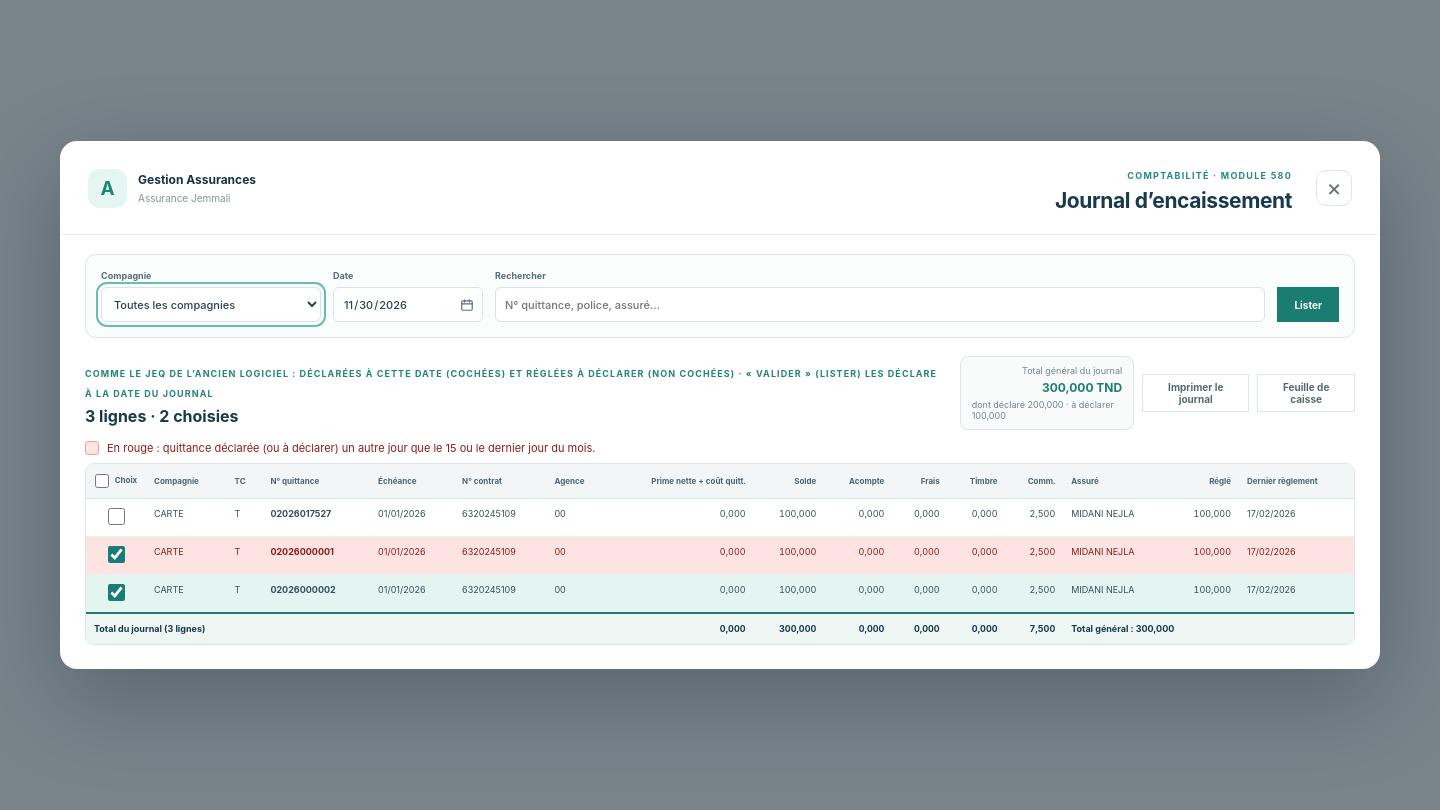
Scenario: a tick comptabilises the quittance at once on the journal date, an untick takes it back out; the journal is read again
Expected: the button "Lister" is shown, 1277,287 -> 1339,322
Type "2026-11-15" into the date field labelled "Date" at (408, 304), box 333,287 -> 483,322
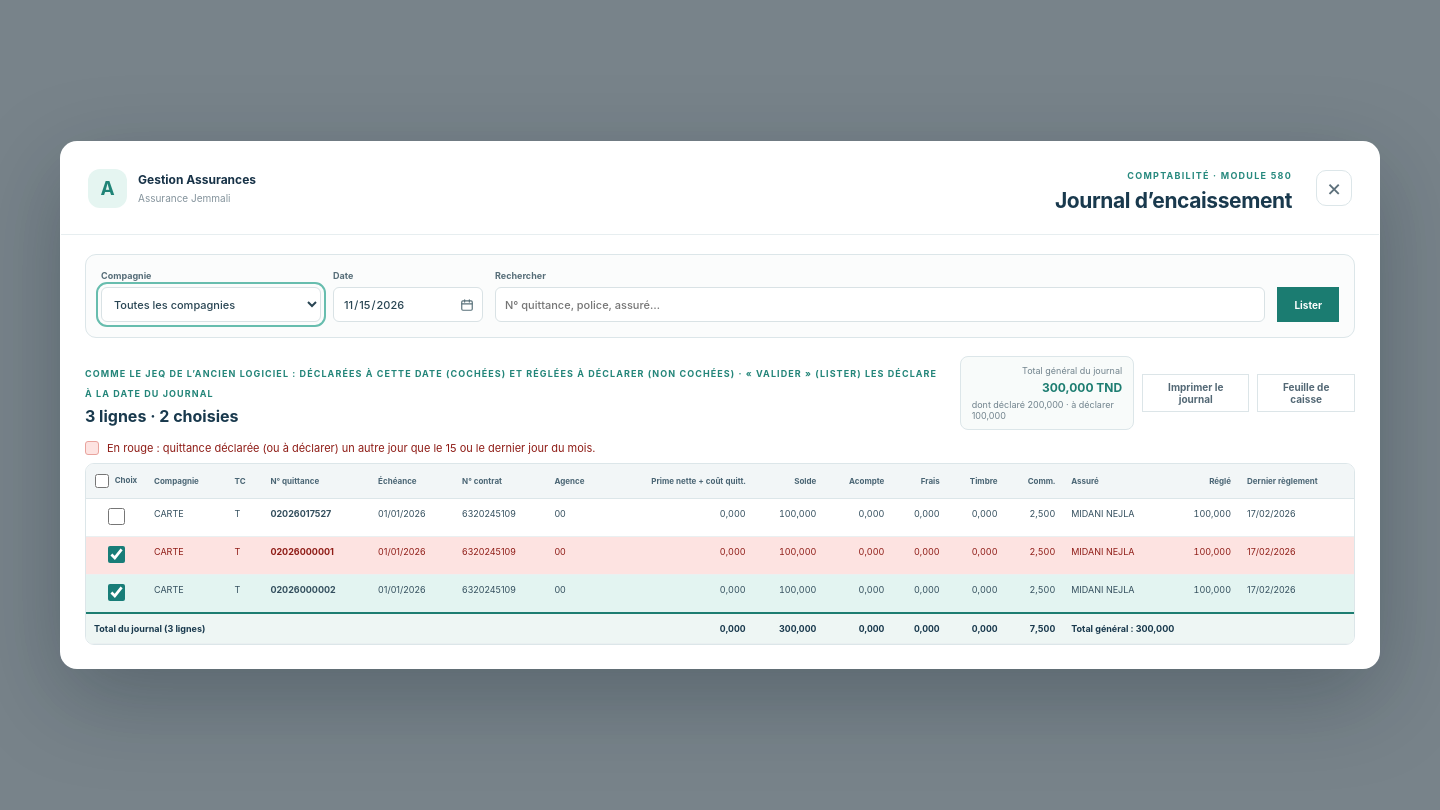
Click the checkbox named "Choisir 02026017527" at (116, 516), box 108,508 -> 124,525
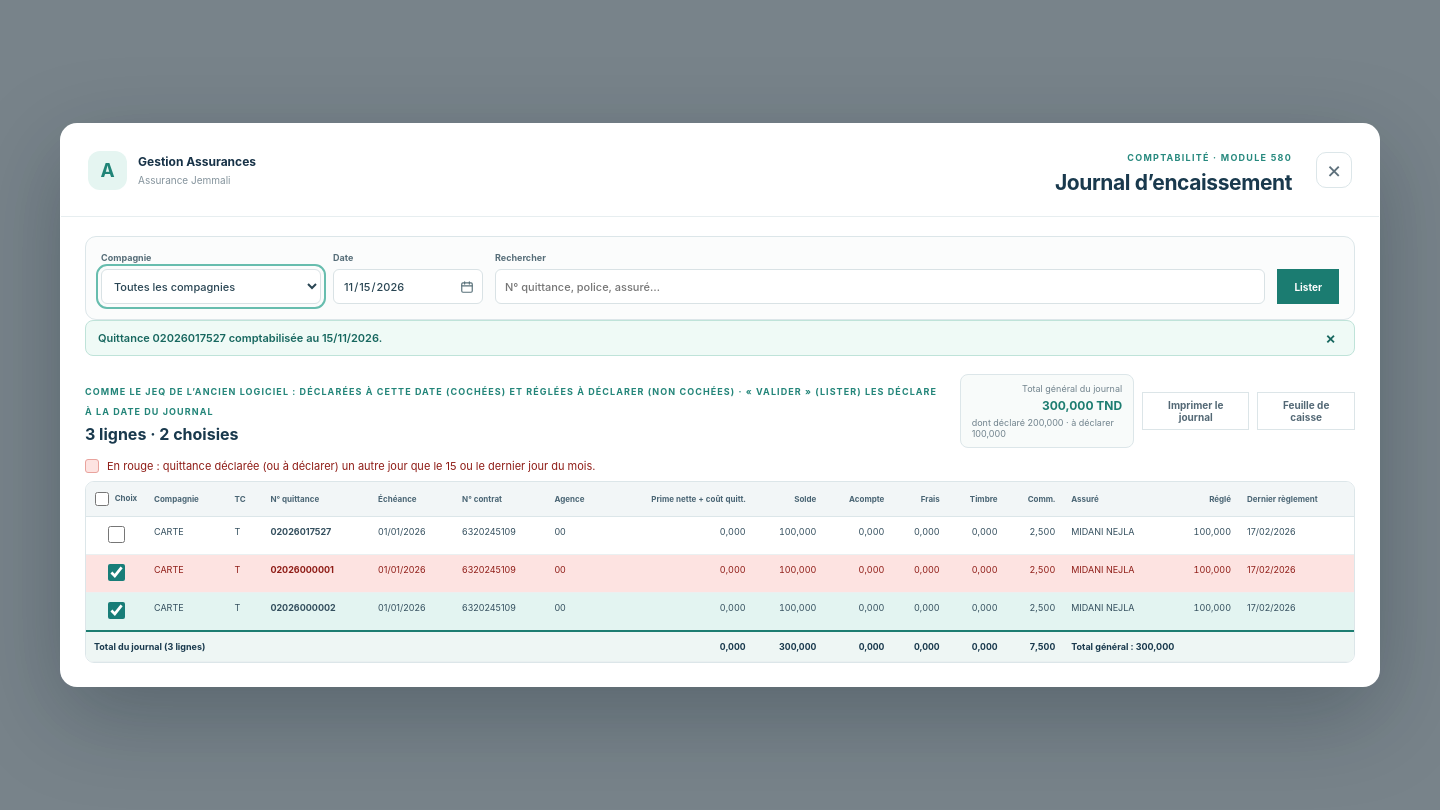
Result: the text "Quittance 02026017527 comptabilisée au 15/11/2026." is shown at 98,331 -> 382,345
Click the checkbox named "Choisir 02026000002" at (116, 610), box 108,602 -> 124,619
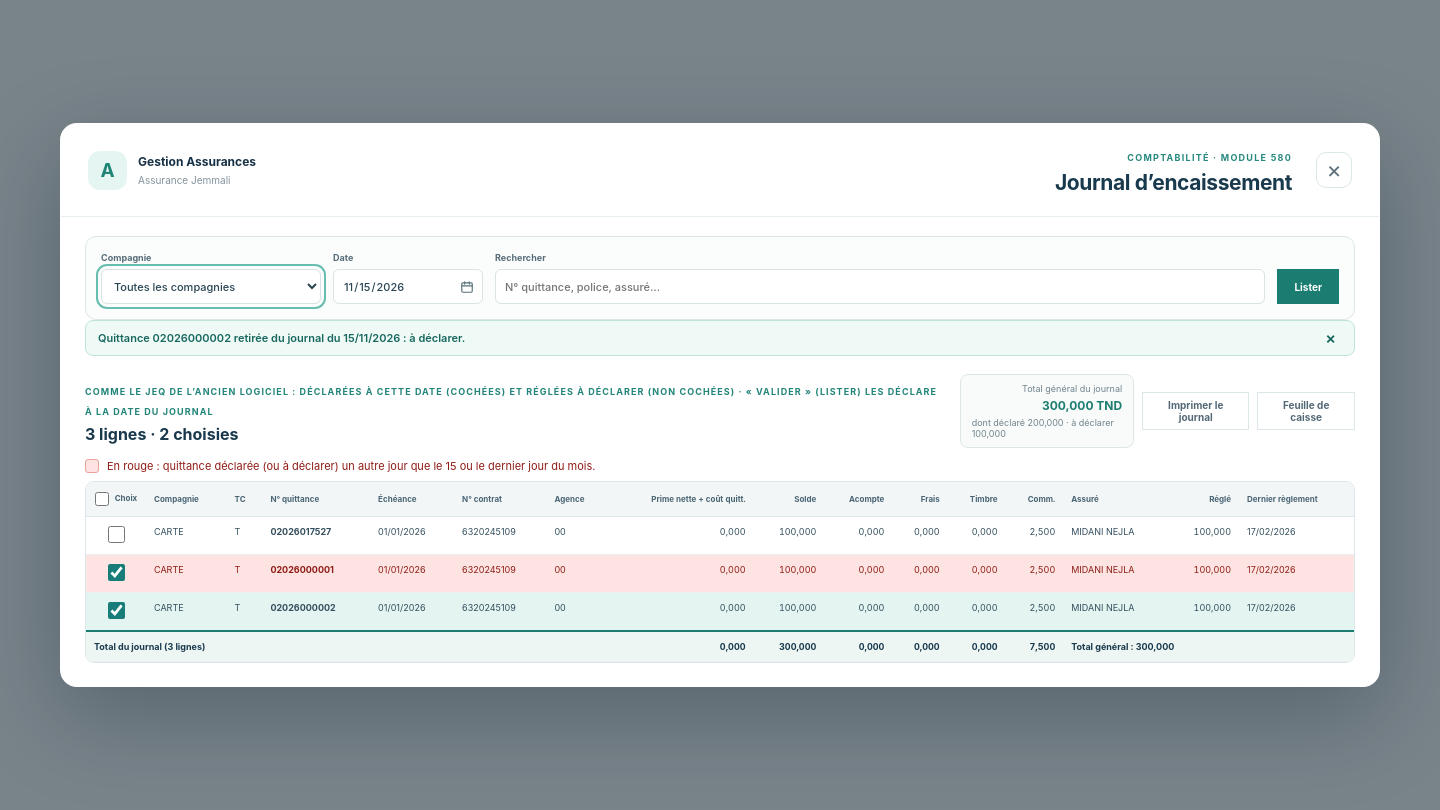
Result: the text "Quittance 02026000002 retirée du journal du 15/11/2026 : à déclarer." is shown at 98,331 -> 465,345
